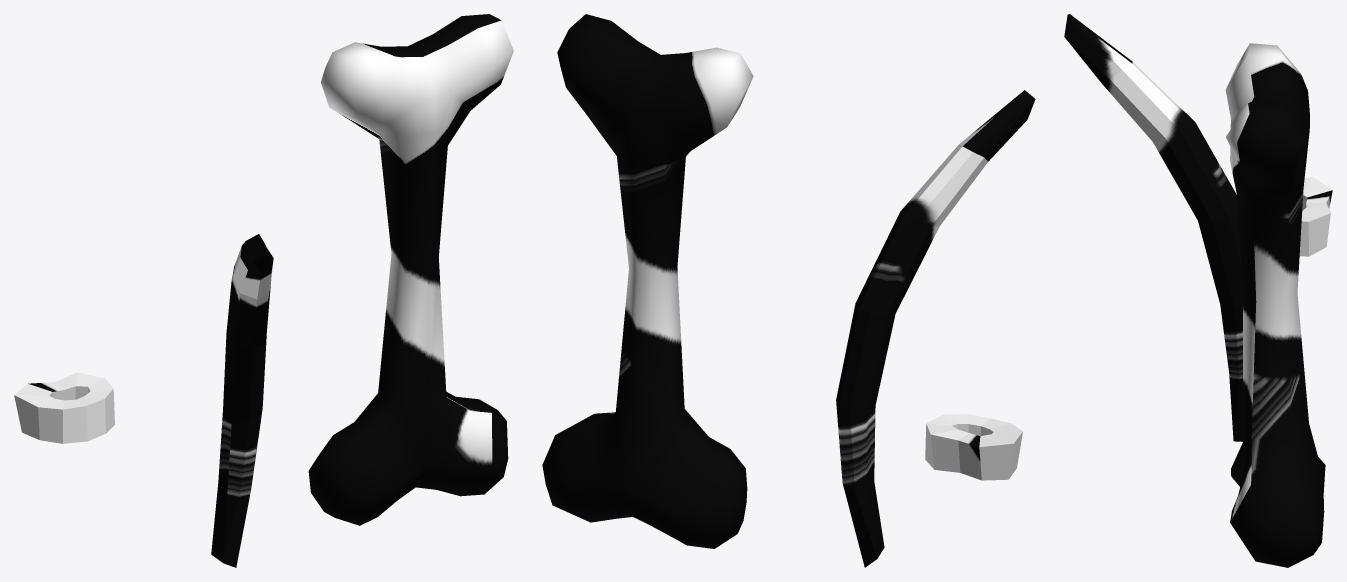
File: bones.FBX
The picture shows the model from 3 angles, left to right: view 1: azimuth 30°, elevation 25°; view 2: azimuth 150°, elevation 25°; view 3: azimuth 270°, elevation 25°; orthographic projection. The views are drawn at different scales.
Parts seen in each view (by area): view 1: bone1, bone2, bone3; view 2: bone1, bone2, bone3; view 3: bone1, bone2, bone3.
Part boxes in pixels (bbox=[...]): bone1: bbox=[308, 14, 513, 525]; bone2: bbox=[211, 234, 273, 567]; bone3: bbox=[14, 372, 114, 443]; bone1: bbox=[542, 14, 753, 548]; bone2: bbox=[836, 90, 1035, 567]; bone3: bbox=[925, 414, 1022, 480]; bone1: bbox=[1225, 43, 1325, 567]; bone2: bbox=[1064, 14, 1242, 441]; bone3: bbox=[1299, 177, 1332, 256].
Bounding box in the file's own units: 2.51 × 2.43 × 1.29.
